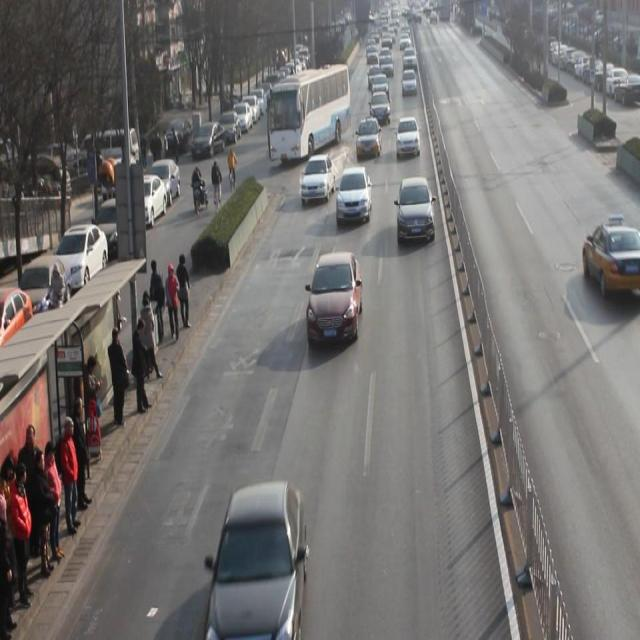car: (210, 484, 308, 640), (307, 253, 364, 351), (583, 225, 640, 299), (396, 180, 436, 247), (336, 169, 373, 227), (301, 156, 338, 207), (356, 119, 383, 164), (396, 119, 421, 162), (370, 94, 392, 129)
van: (268, 62, 351, 163)
